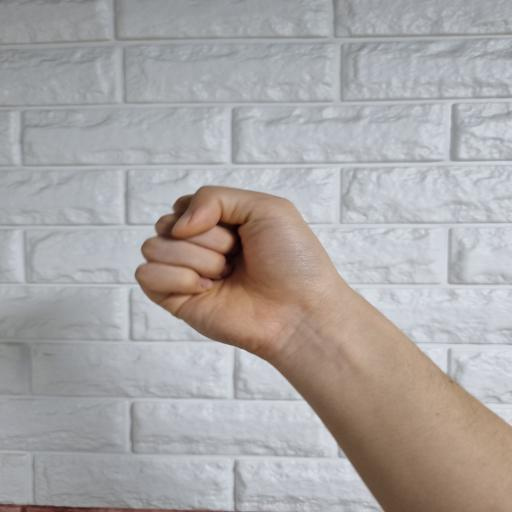Rock: (133, 186, 344, 351)
